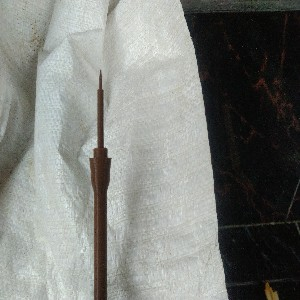solder: (88, 69, 113, 300)
